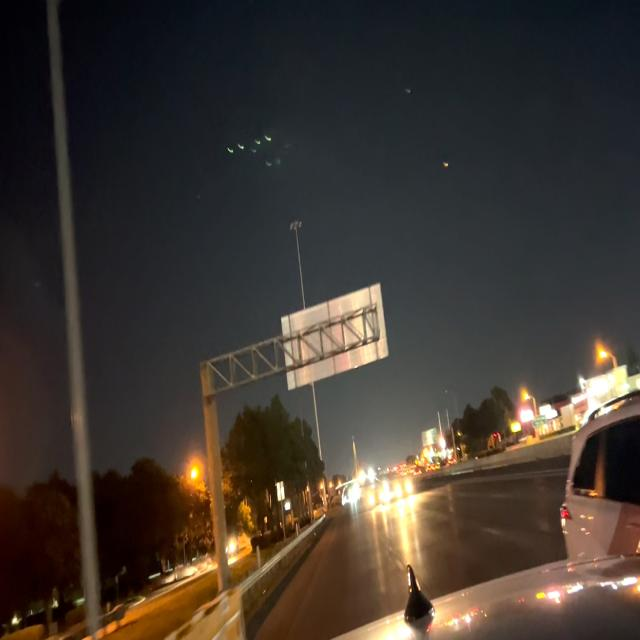back-of-sign: (283, 282, 388, 390)
